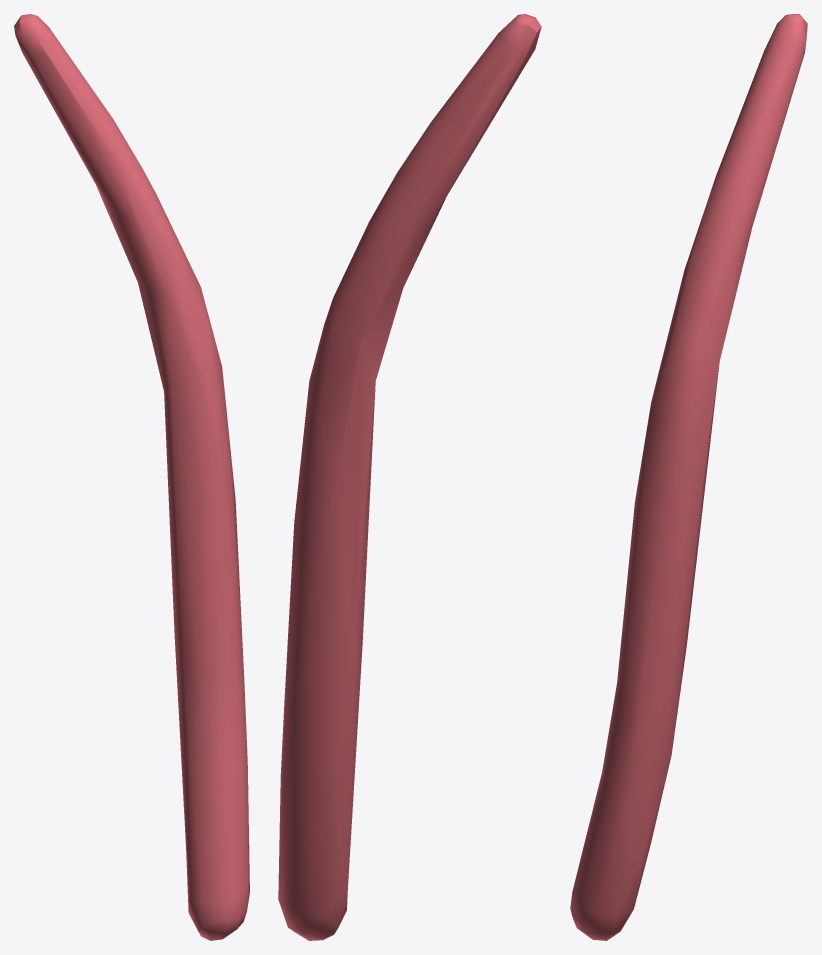
The model's file is fma8661_fj6133.glb.
3 views of the same model, side by side, from view 1: azimuth 30°, elevation 25°; view 2: azimuth 210°, elevation 25°; view 3: azimuth 270°, elevation 25° (orthographic). The views are drawn at different scales.
Parts seen in each view (by area): view 1: FMA8661_FJ6133; view 2: FMA8661_FJ6133; view 3: FMA8661_FJ6133.
Boxes of the visible parts, box(x1,y1,x2,y2) form: FMA8661_FJ6133: box(14, 14, 249, 940); FMA8661_FJ6133: box(278, 14, 541, 940); FMA8661_FJ6133: box(570, 14, 807, 940).
Size of the model in its own units: 0.00994 by 0.0544 by 0.0133.
